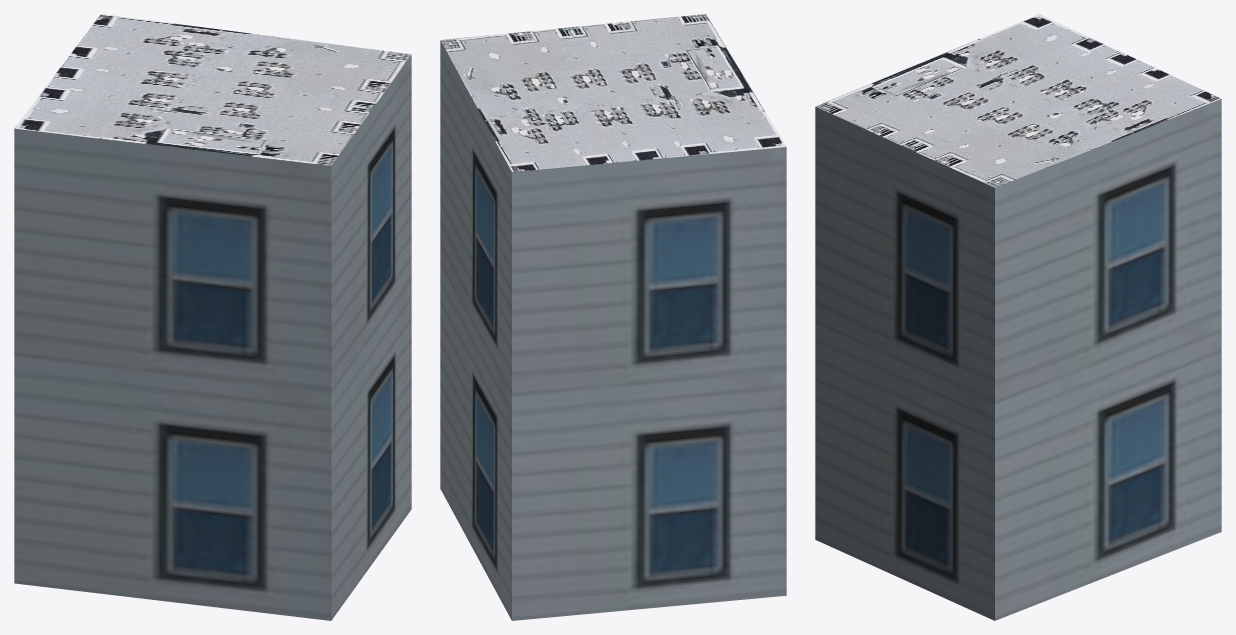
The model's file is ResTex__1644.fbx.
3 views of the same model, side by side, from view 1: azimuth 30°, elevation 25°; view 2: azimuth 150°, elevation 25°; view 3: azimuth 270°, elevation 25° (orthographic). The views are drawn at different scales.
Visible parts, largest first — view 1: CityEngineMaterial_18_m, CityEngineMaterial_m; view 2: CityEngineMaterial_18_m, CityEngineMaterial_m; view 3: CityEngineMaterial_18_m, CityEngineMaterial_m.
Boxes of the visible parts, bbox=[...] form: CityEngineMaterial_18_m: bbox=[14, 55, 411, 620]; CityEngineMaterial_m: bbox=[14, 14, 411, 165]; CityEngineMaterial_18_m: bbox=[440, 40, 786, 620]; CityEngineMaterial_m: bbox=[440, 14, 786, 172]; CityEngineMaterial_18_m: bbox=[815, 99, 1221, 620]; CityEngineMaterial_m: bbox=[815, 14, 1221, 187].
Size of the model in its own units: 5.17 by 6 by 5.11.
Materials: 2 (2 with a texture image).
